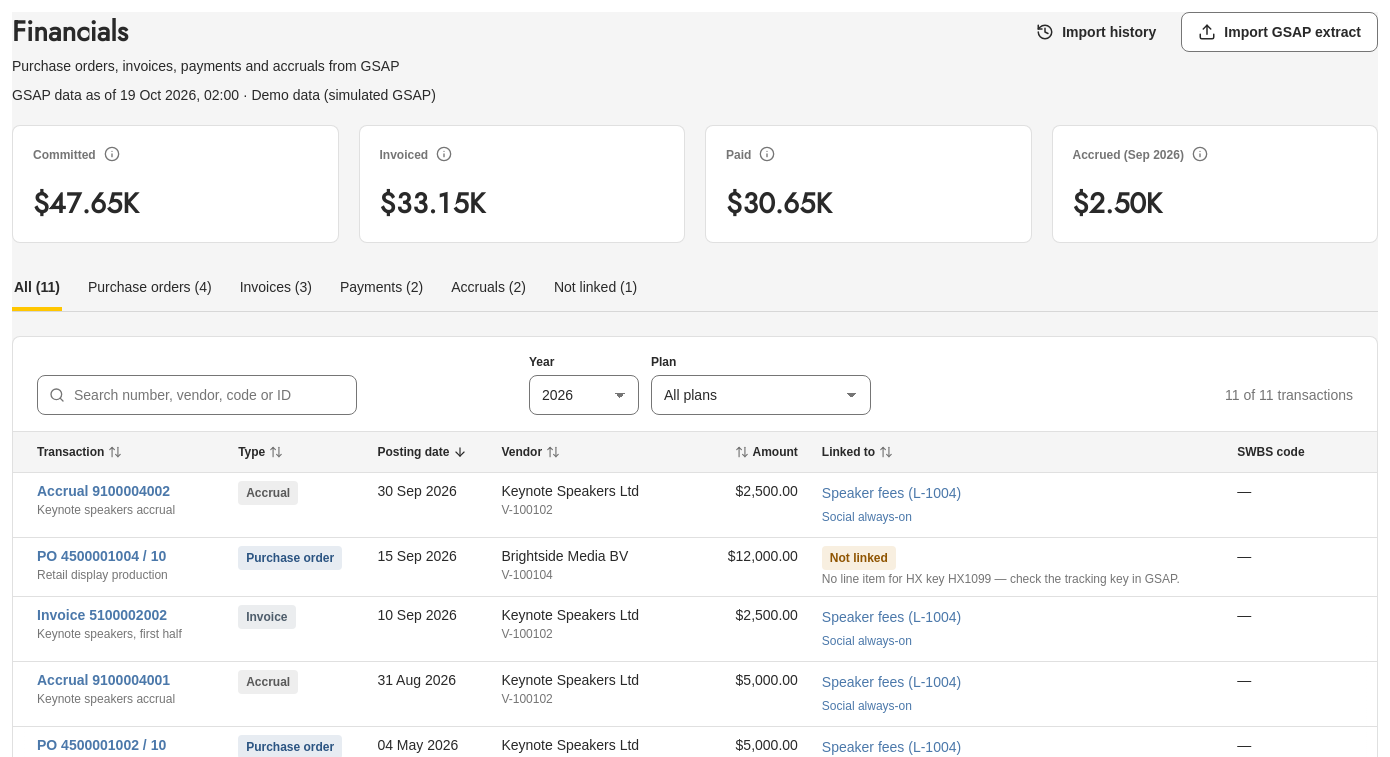
Test: FinancialsPage search, tabs and filters (015 US3, FR-021) › searches after a pause and keeps the search in the address (US3 scenario 2)
Type "keynote" into the search field named "Search transactions" at (197, 395), box x1=37 y1=375 x2=357 y2=415
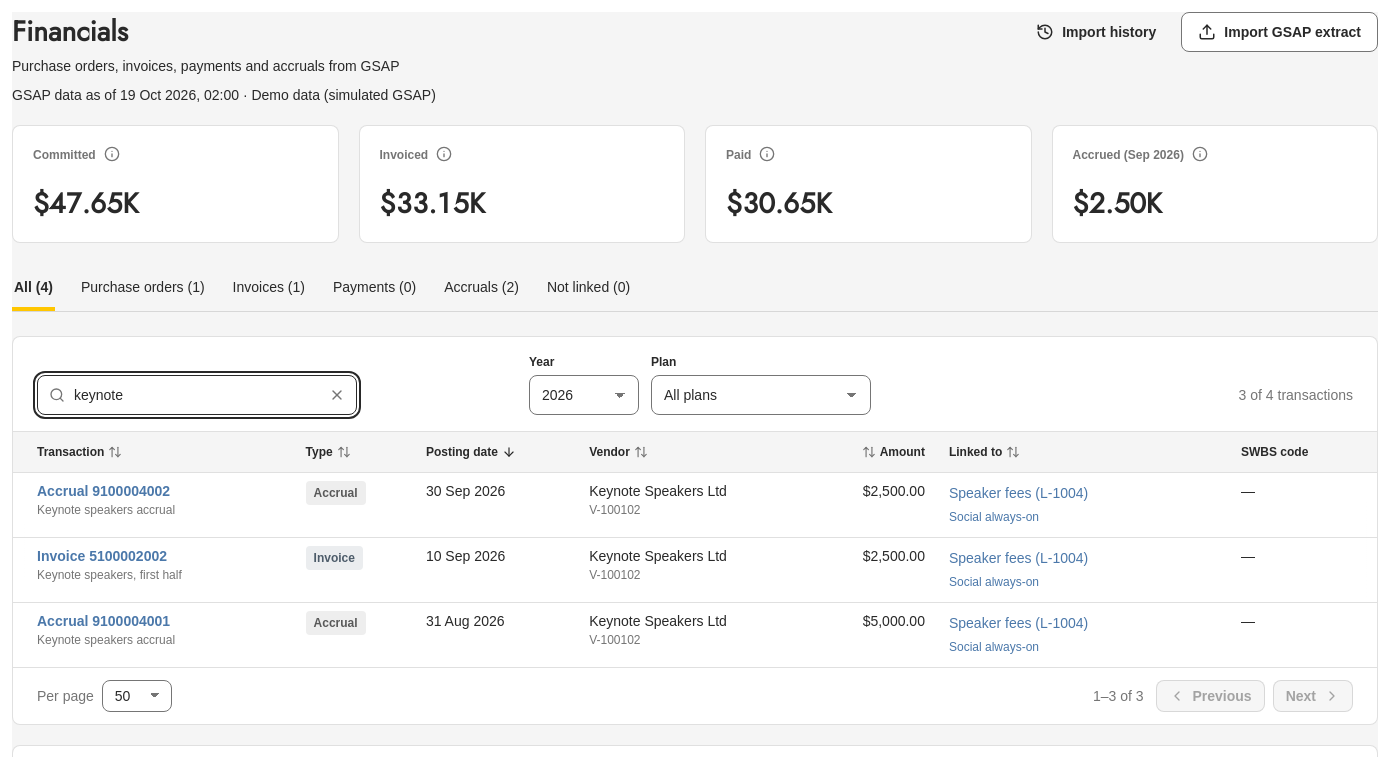
Expected: the tab "Accruals (2)" is shown, x1=442 y1=263 x2=521 y2=311
Now the text "3 of 4 transactions" is shown, box x1=1239 y1=387 x2=1353 y2=403
